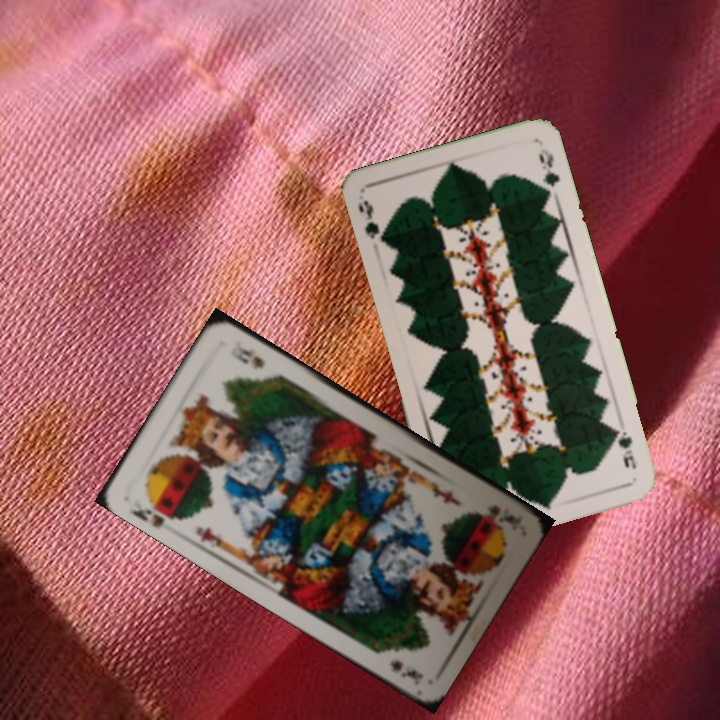G9: (354, 196, 390, 248), (608, 423, 639, 472)
SK: (125, 499, 182, 531), (481, 501, 518, 524)
